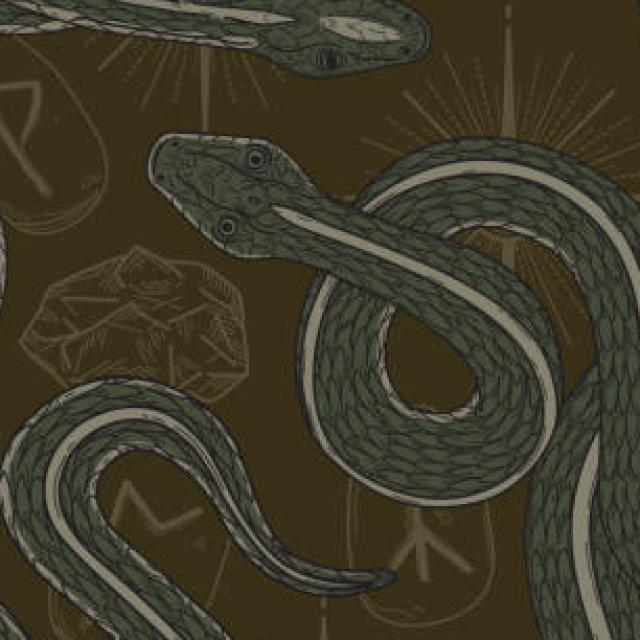Snake: (0, 0, 435, 596), (134, 113, 640, 609), (0, 349, 406, 640), (516, 0, 640, 640)
